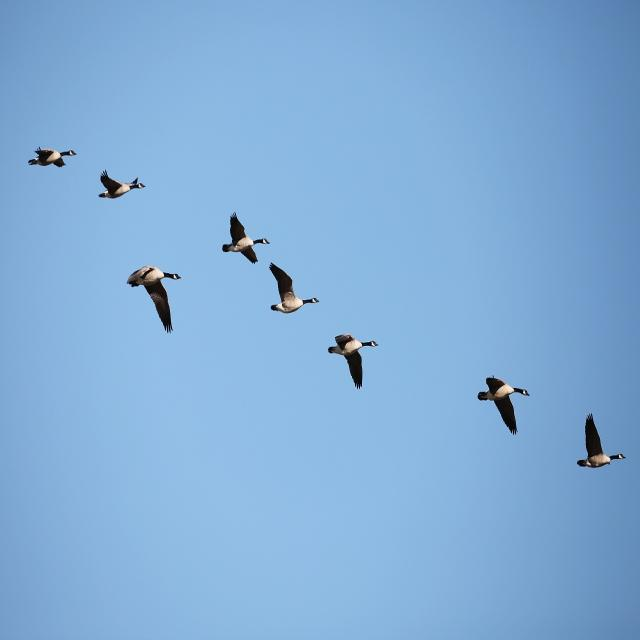bird: (130, 265, 184, 335), (477, 376, 532, 434), (576, 416, 630, 470), (327, 337, 378, 392), (267, 264, 320, 316), (224, 213, 272, 263), (99, 171, 147, 203), (26, 148, 76, 172)
